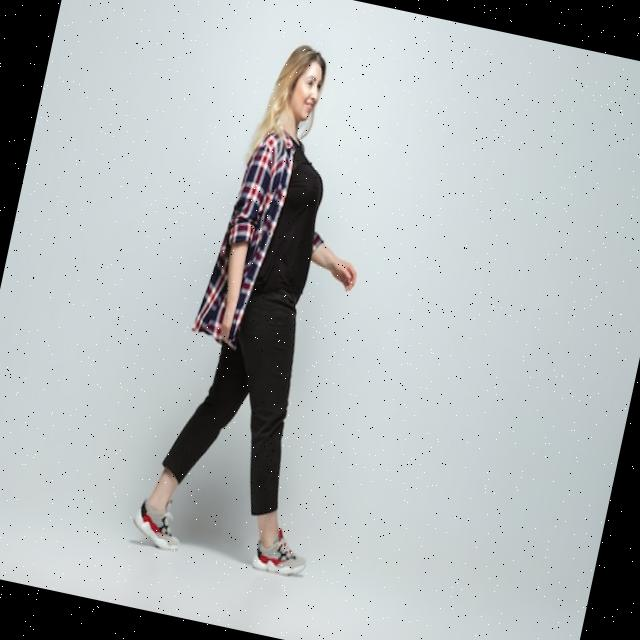Person: (128, 30, 411, 581)
